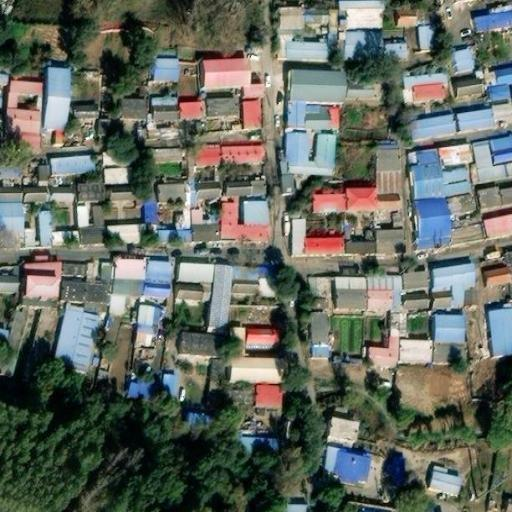building: (21, 299, 62, 383), (53, 311, 100, 371), (46, 67, 72, 145), (0, 300, 30, 367), (415, 195, 455, 245), (7, 81, 44, 133), (409, 147, 445, 200), (322, 448, 374, 484), (375, 145, 401, 216), (24, 252, 63, 298), (289, 69, 346, 100), (223, 203, 267, 241), (475, 140, 512, 183), (232, 358, 287, 385), (63, 280, 108, 310), (409, 113, 457, 140), (76, 204, 107, 245), (210, 264, 231, 323), (228, 265, 263, 300), (405, 73, 445, 103), (301, 99, 340, 129), (204, 60, 250, 85), (334, 276, 367, 310), (366, 331, 400, 363), (490, 310, 512, 359), (428, 470, 465, 499), (473, 5, 512, 32), (351, 28, 383, 60), (285, 134, 311, 173), (434, 265, 474, 290), (309, 136, 335, 174), (181, 335, 226, 355), (439, 142, 472, 169), (306, 235, 348, 256), (243, 434, 278, 459), (442, 166, 471, 196), (367, 276, 392, 310), (52, 155, 94, 175), (435, 316, 467, 342), (338, 498, 397, 512), (346, 187, 375, 215), (378, 229, 406, 258), (345, 78, 381, 100), (387, 450, 411, 483), (180, 261, 215, 283), (479, 187, 512, 210), (104, 153, 127, 186), (108, 280, 144, 301), (329, 419, 359, 444), (289, 41, 328, 60), (460, 109, 495, 130), (314, 193, 346, 215), (220, 145, 264, 161), (400, 339, 429, 363), (239, 202, 267, 226), (130, 373, 158, 397), (136, 308, 155, 343), (206, 99, 238, 119), (310, 314, 331, 344), (117, 259, 147, 280), (487, 213, 512, 238), (152, 101, 179, 124), (157, 182, 188, 202), (107, 225, 138, 245), (491, 134, 512, 163), (258, 385, 287, 406), (249, 329, 278, 350), (225, 179, 263, 195), (206, 362, 223, 397), (242, 98, 261, 129), (147, 259, 171, 283), (453, 47, 476, 72), (226, 329, 249, 354), (146, 129, 179, 146), (292, 217, 307, 254), (280, 6, 304, 29), (40, 212, 56, 246), (484, 267, 512, 286), (155, 59, 180, 80), (144, 282, 171, 301), (348, 240, 378, 257), (154, 144, 184, 161), (188, 411, 214, 430), (455, 77, 484, 94), (18, 131, 42, 150), (194, 182, 219, 200), (191, 224, 217, 241), (396, 8, 419, 27), (179, 101, 202, 120), (112, 190, 136, 208), (383, 43, 408, 60), (0, 160, 25, 177), (122, 98, 144, 117), (421, 26, 437, 52), (159, 229, 191, 242), (63, 263, 87, 280), (177, 287, 204, 302), (489, 84, 509, 104), (24, 186, 49, 202), (199, 145, 220, 164), (407, 273, 429, 291), (80, 183, 104, 199), (35, 164, 54, 184), (303, 8, 326, 24), (289, 99, 302, 127), (406, 291, 426, 308), (451, 288, 466, 310), (161, 375, 175, 398), (309, 278, 325, 298), (392, 277, 401, 312), (309, 343, 330, 358), (146, 197, 158, 223), (49, 185, 73, 198), (279, 502, 308, 512), (495, 68, 512, 85), (245, 84, 265, 98), (496, 102, 511, 120), (435, 296, 453, 311), (279, 171, 291, 193), (108, 301, 126, 315), (77, 104, 96, 117), (103, 263, 117, 280), (190, 209, 204, 224), (0, 71, 6, 84)
